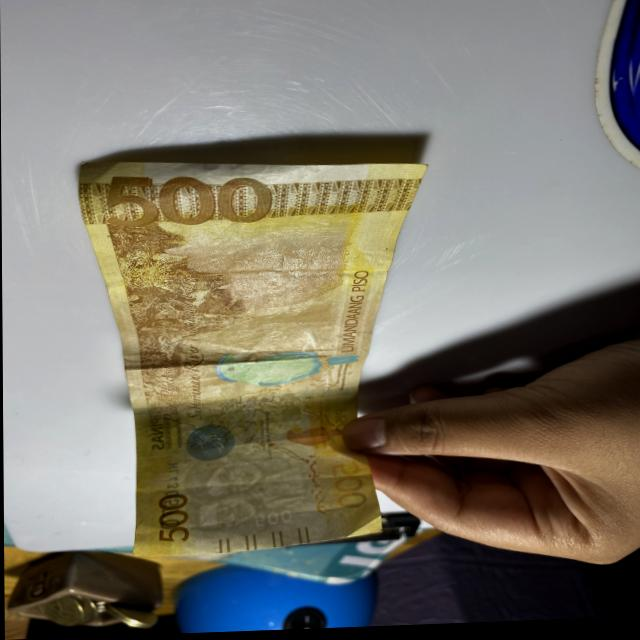500_big_parrot: (216, 344, 354, 396)
500_parrot_watermark: (280, 419, 349, 453)
value_watermark: (255, 510, 293, 529)
watermark: (185, 454, 299, 540)
